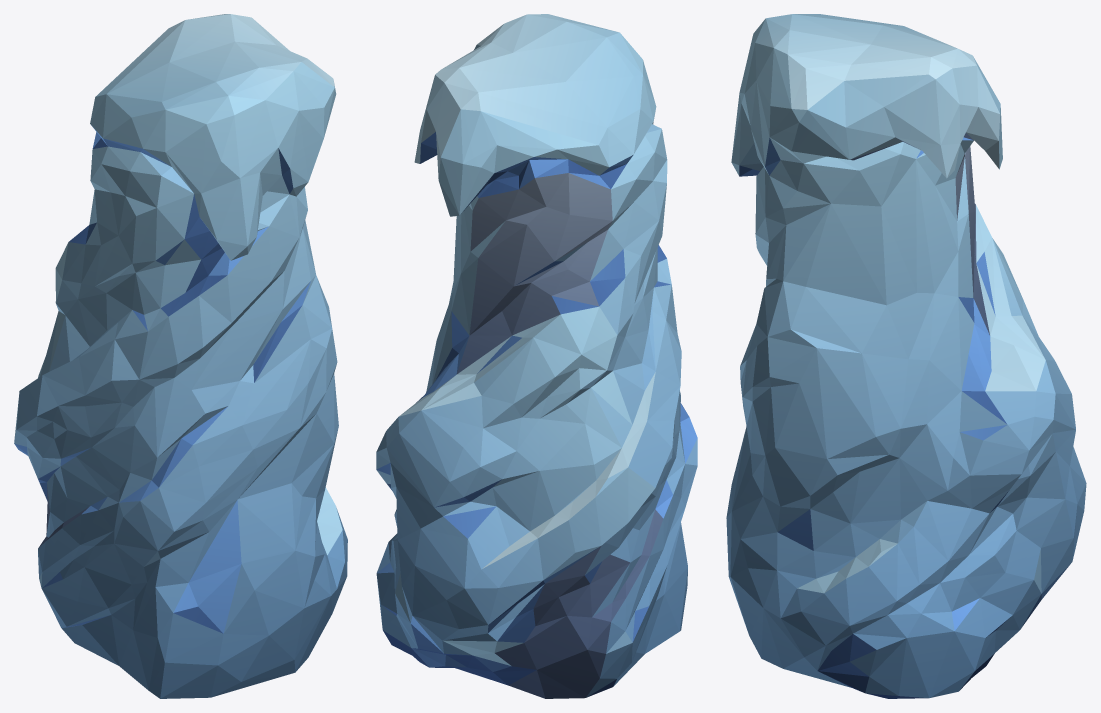
The model's file is SnowHigh-2.glb.
3 renders of one model, left to right at view 1: azimuth 30°, elevation 25°; view 2: azimuth 150°, elevation 25°; view 3: azimuth 270°, elevation 25°, orthographic. The views are drawn at different scales.
Visible parts, largest first — view 1: SnowHigh-2-col; view 2: SnowHigh-2-col; view 3: SnowHigh-2-col.
Part boxes in pixels (x1,y1,x2,y2): SnowHigh-2-col: [14, 14, 347, 698]; SnowHigh-2-col: [376, 14, 697, 698]; SnowHigh-2-col: [726, 14, 1086, 698].
Size of the model in its own units: 5.78 by 11.5 by 6.02.
1 material, 1 textured.
